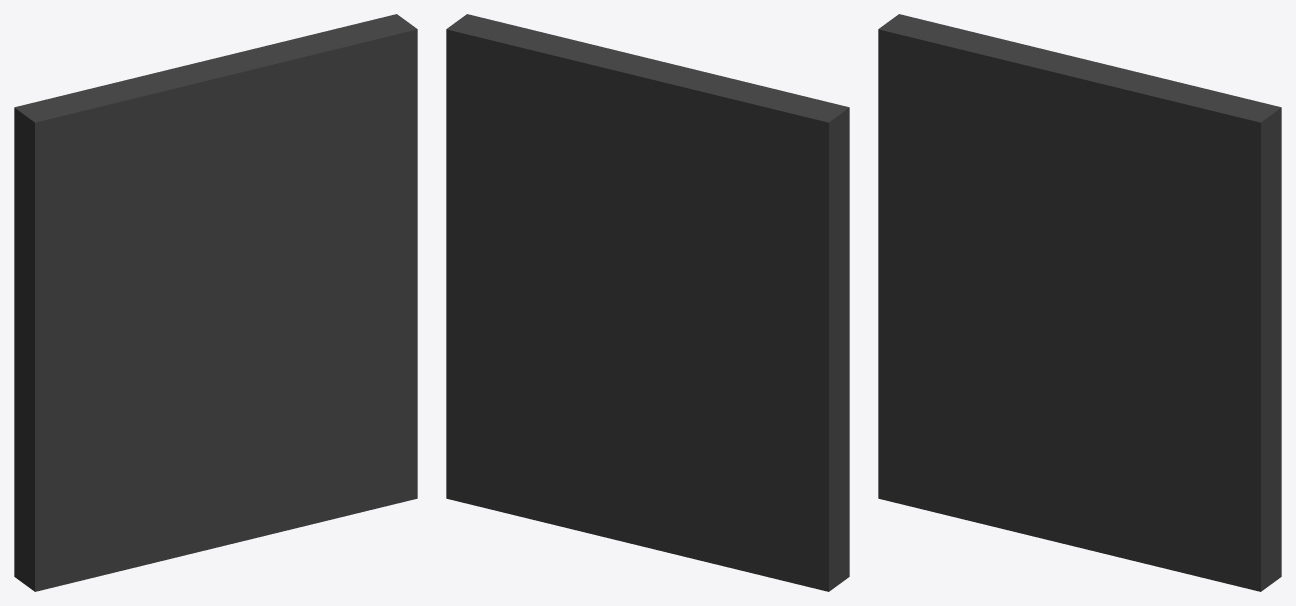
Rendered from graydoor.glb.
3 views of the same model, side by side, from view 1: azimuth 30°, elevation 25°; view 2: azimuth 150°, elevation 25°; view 3: azimuth 330°, elevation 25° (orthographic).
Parts seen in each view (by area): view 1: Door; view 2: Door; view 3: Door.
Part boxes in pixels (box(x1,y1,x2,y2)): Door: box(14, 14, 417, 591); Door: box(446, 14, 849, 591); Door: box(878, 14, 1281, 591).
Size of the model in its own units: 8.11 by 9.5 by 0.7681.
1 material, 1 textured.
